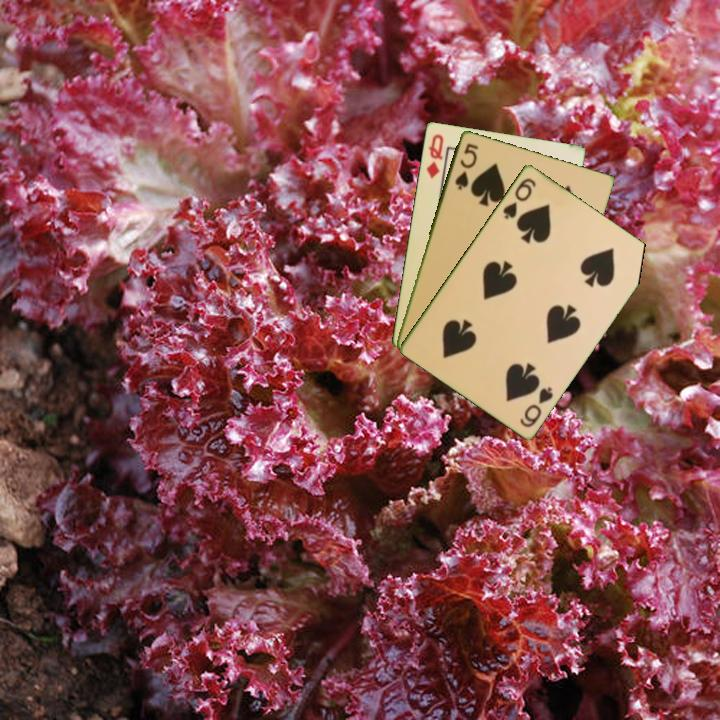5s: (451, 139, 481, 192)
6s: (499, 174, 539, 222), (516, 383, 556, 430)
Qd: (423, 130, 446, 181)
